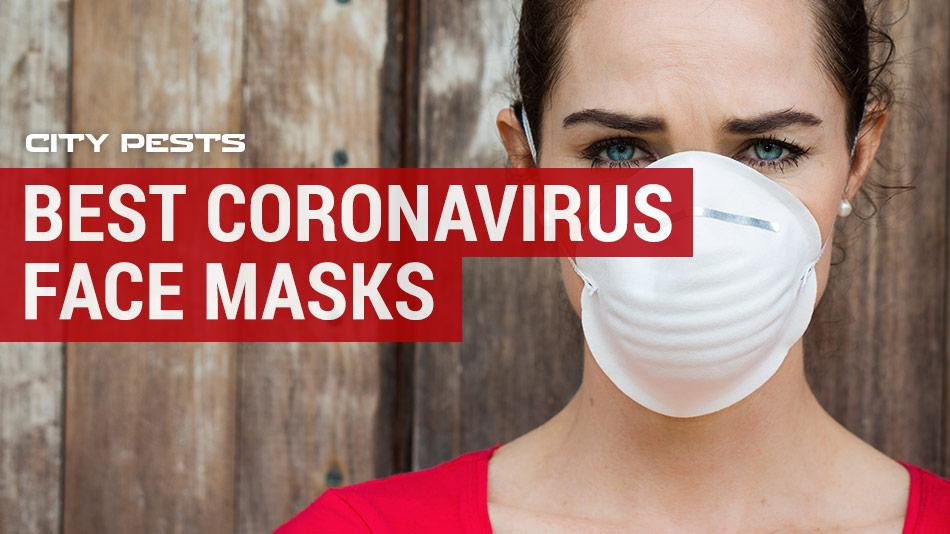Wearing Mask: (466, 0, 915, 534)
